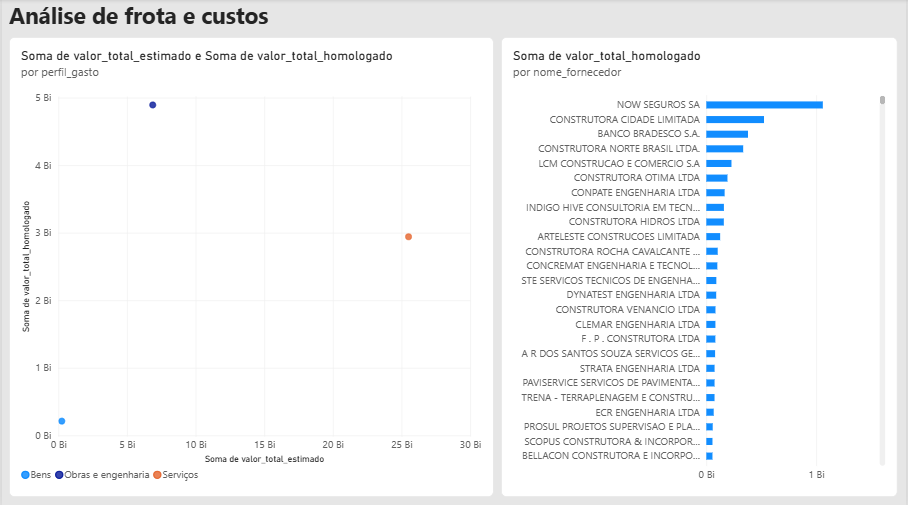

This screenshot's page, from the dashboard's own definition file:
{"tool":"powerbi","page":{"name":"Análise de frota e custos","canvas":[1280,720],"ordinal":2},"visuals":[{"type":"textbox","box":[10,0,385,71.7],"z":0},{"type":"scatterChart","fields":{"Series":["pncp_controladoria fato_item_contratado.perfil_gasto"],"X":["Sum(pncp_controladoria fato_item_contratado.valor_total_estimado)"],"Y":["Sum(pncp_controladoria fato_item_contratado.valor_total_homologado)"]},"box":[10,53.3,686.7,651.7],"z":1},{"type":"barChart","fields":{"Category":["pncp_controladoria dim_fornecedor.nome_fornecedor"],"Y":["Sum(pncp_controladoria fato_item_contratado.valor_total_homologado)"]},"box":[706.7,53.3,561.7,651.7],"z":2}]}

Visuals, with their boxes in screenshot pixels (x1, y1, x2, y2), scaled from the page's 1280x720 canvas onto the 909x506 screenshot:
textbox: 7, 0, 281, 50
scatterChart - pncp_controladoria fato_item_contratado.perfil_gasto x Sum(pncp_controladoria fato_item_contratado.valor_total_estimado): 7, 37, 495, 495
barChart - pncp_controladoria dim_fornecedor.nome_fornecedor x Sum(pncp_controladoria fato_item_contratado.valor_total_homologado): 502, 37, 901, 495
